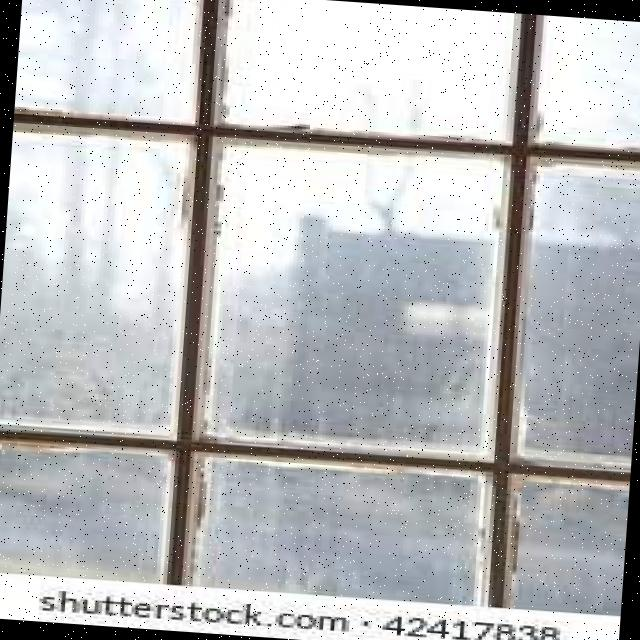Window: (176, 122, 532, 476)
